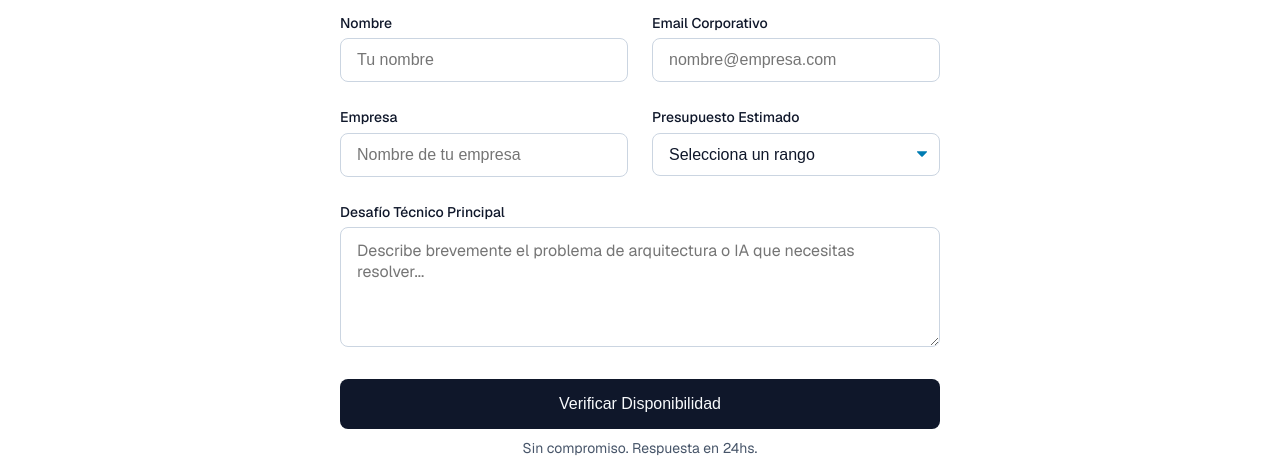
Test: QualificationForm Component › handles medium budget lead submission
This screenshot has width=1280, height=473.
Type "Diego" into the field labelled "Nombre".
click(484, 60); type("Diego")  # box [340,38,628,82]
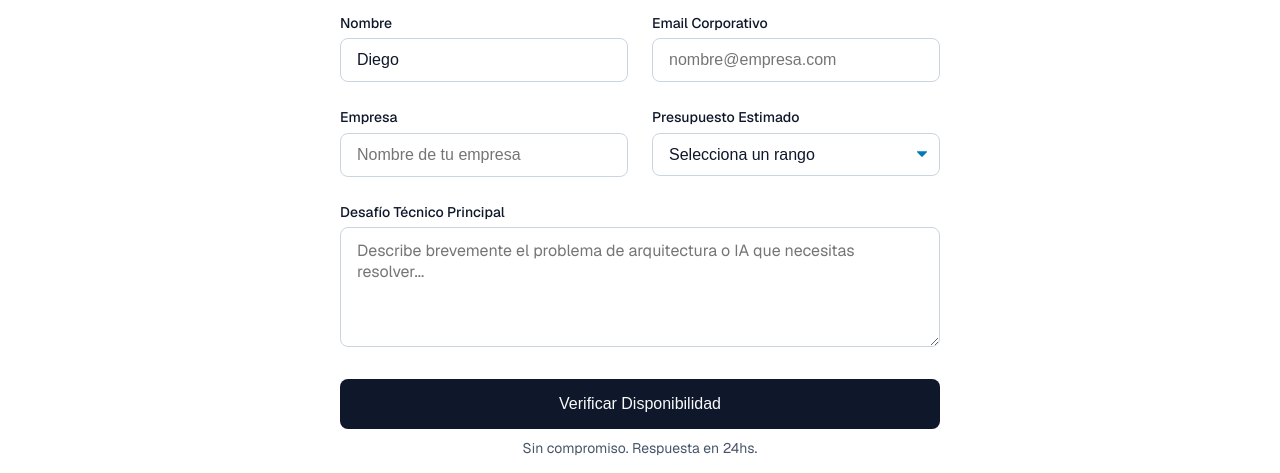
Type "diego@test.com" into the field labelled "Email Corporativo".
click(796, 60); type("diego@test.com")  # box [652,38,940,82]
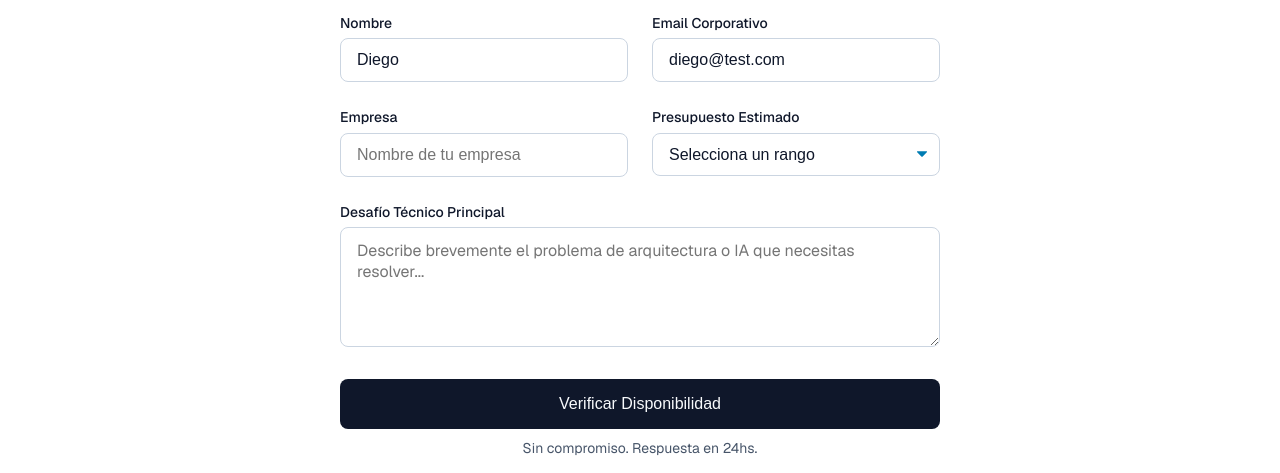
Type "Test Corp" into the field labelled "Empresa".
click(484, 155); type("Test Corp")  # box [340,133,628,177]
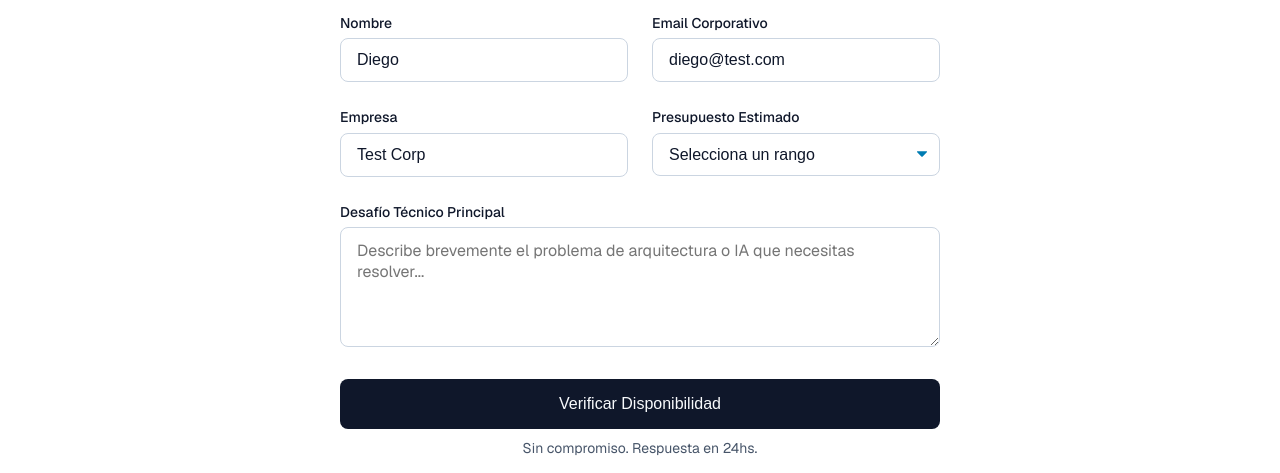
Select "$5,000 - $20,000 USD" in the dropdown labelled "Presupuesto Estimado" at coordinates (796, 154), box [652,133,940,176]
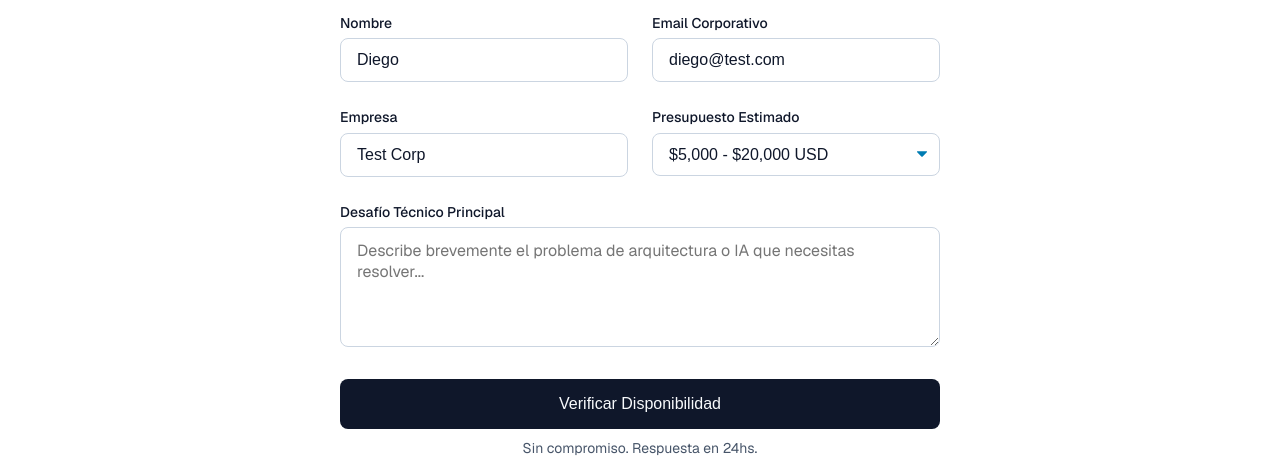
Replace the text in the text box labelled "Desafío Técnico Principal" with "Testing" at coordinates (640, 287), box [340,227,940,347]
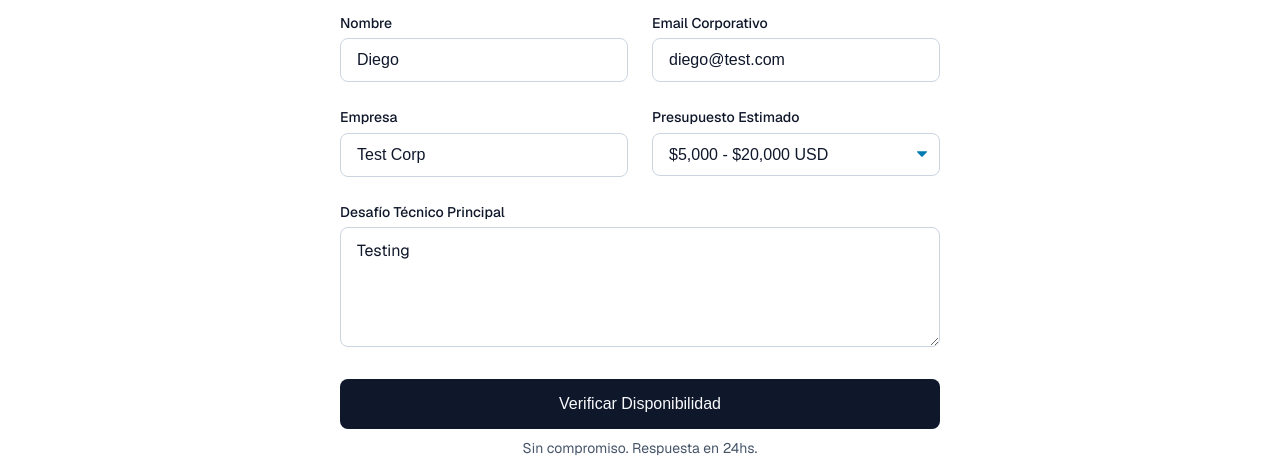
Click the button "Verificar Disponibilidad".
click(640, 404)  # box [340,379,940,429]
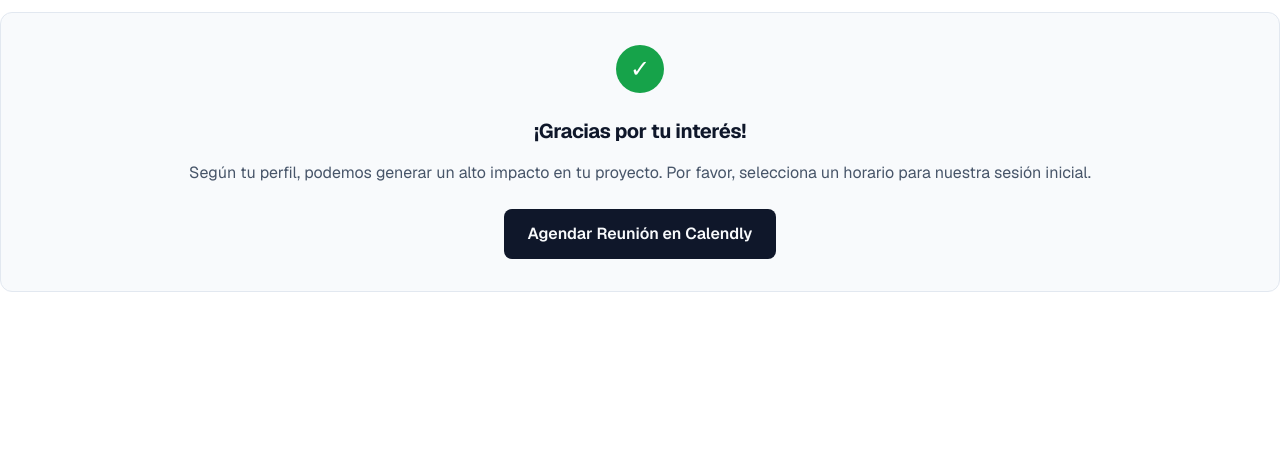
Now the heading "¡Gracias por tu interés!" is shown, box [534,118,746,144]
